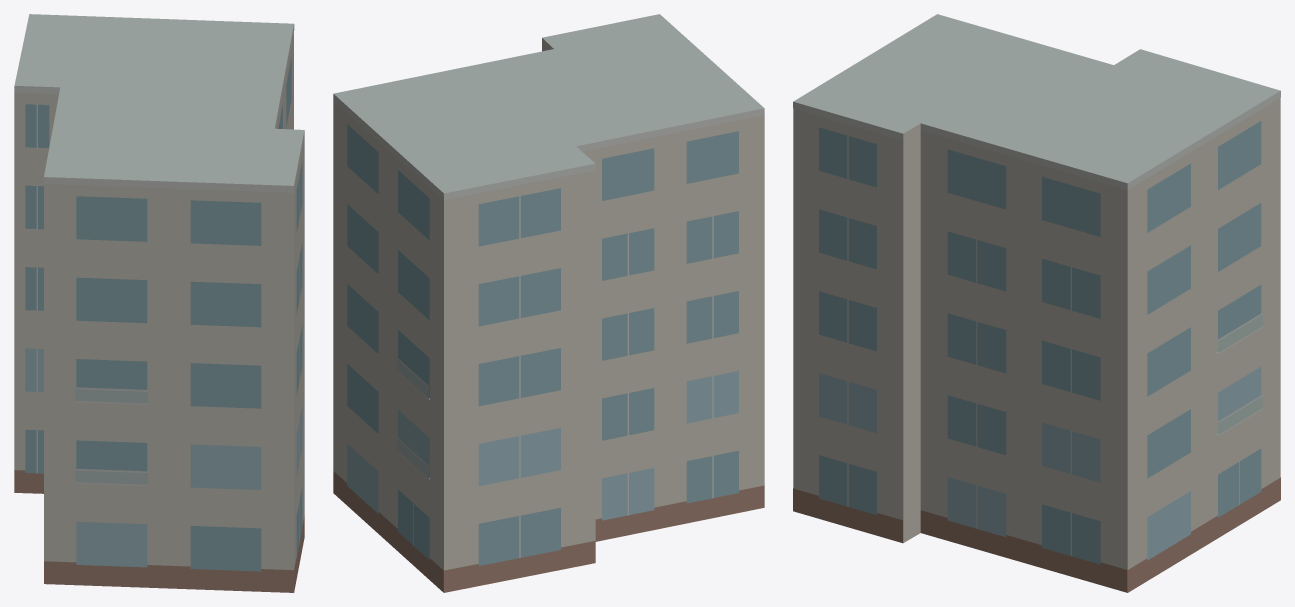
Rendered from survey-upis-32972094.glb.
3 views of the same model, side by side, from view 1: azimuth 30°, elevation 25°; view 2: azimuth 150°, elevation 25°; view 3: azimuth 270°, elevation 25° (orthographic). The views are drawn at different scales.
Parts seen in each view (by area): view 1: survey-upis-32972094.tmp; view 2: survey-upis-32972094.tmp; view 3: survey-upis-32972094.tmp.
Part boxes in pixels (x1,y1,x2,y2): survey-upis-32972094.tmp: [14, 14, 304, 592]; survey-upis-32972094.tmp: [333, 14, 764, 592]; survey-upis-32972094.tmp: [793, 14, 1280, 592].
Size of the model in its own units: 12.95 by 14.6 by 15.76.
